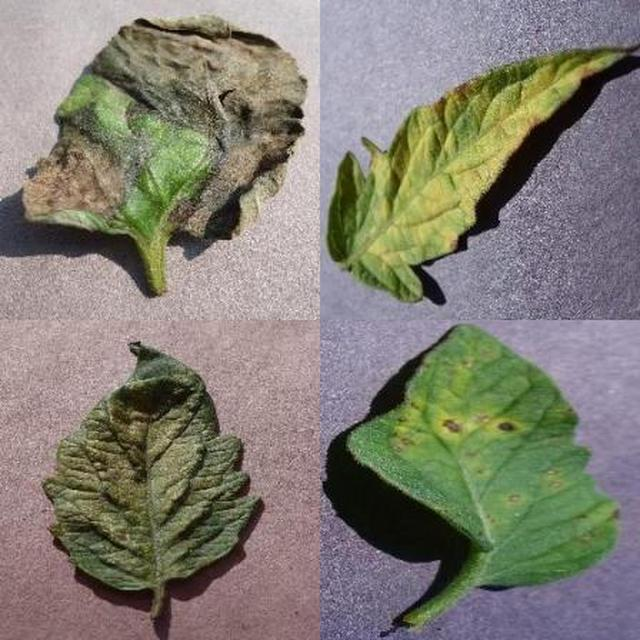Late Blight Leaf: (216, 186, 640, 640)
